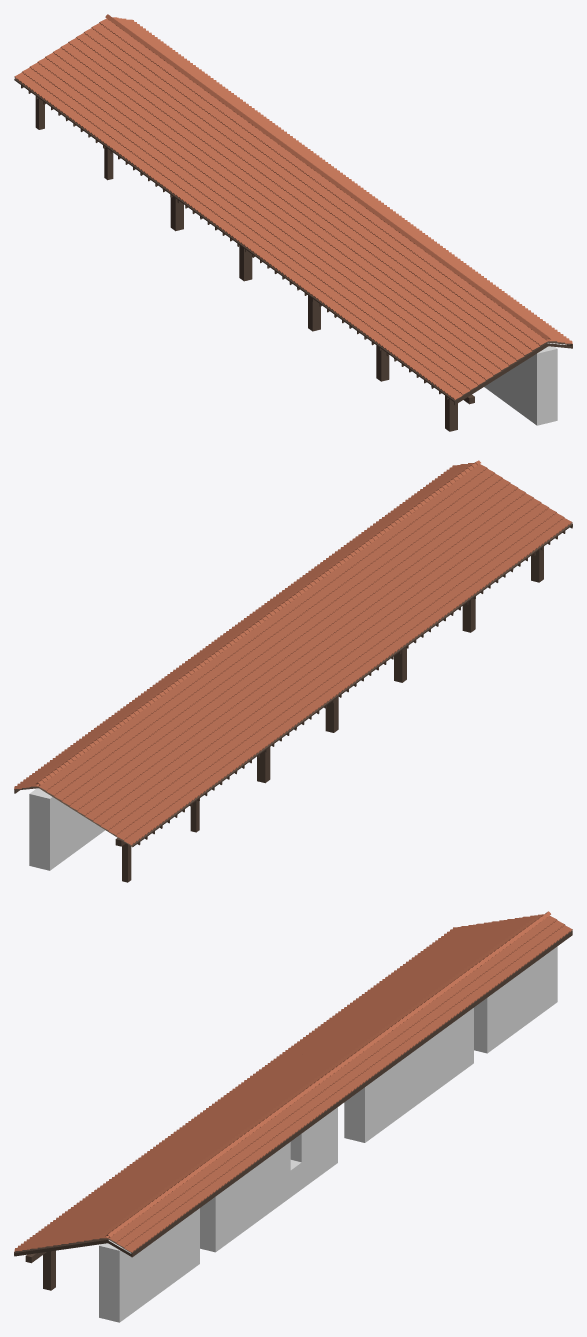
Rendered from quadrangle wall small roof.fbx.
3 renders of one model, top to bottom at view 1: azimuth 30°, elevation 25°; view 2: azimuth 150°, elevation 25°; view 3: azimuth 330°, elevation 25°, orthographic.
Parts seen in each view (by area): view 1: 1roof.012, Cube.043, Cube.045; view 2: 1roof.012, Cube.043, Cube.045; view 3: 1roof.012, Cube.043, Cube.045.
Boxes of the visible parts, x1,y1,x2,y2 form: 1roof.012: [14, 14, 572, 399]; Cube.043: [484, 343, 557, 425]; Cube.045: [14, 78, 572, 405]; 1roof.012: [14, 460, 572, 845]; Cube.043: [29, 788, 104, 870]; Cube.045: [14, 523, 572, 847]; 1roof.012: [14, 911, 572, 1252]; Cube.043: [99, 946, 557, 1322]; Cube.045: [14, 930, 572, 1257].
Bounding box in the file's own units: 2009 × 1406 × 12917.
